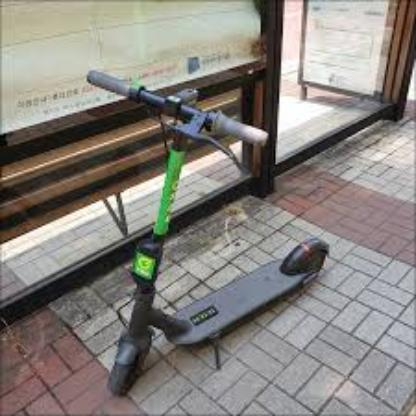bike: (82, 65, 331, 399)
